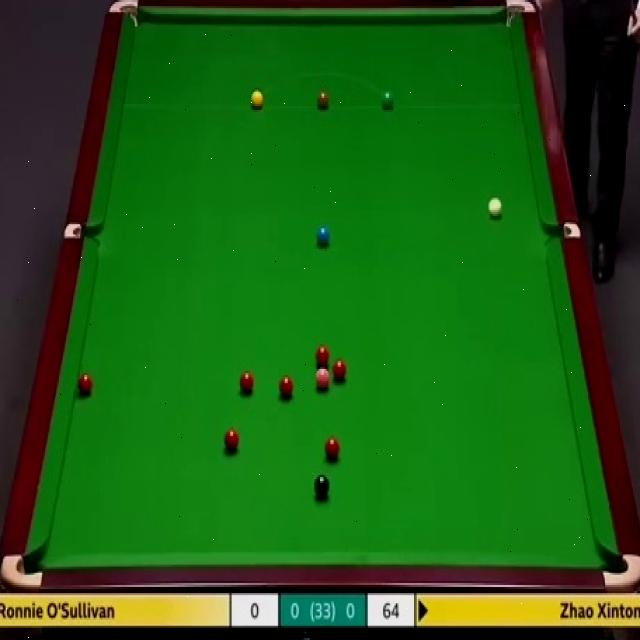black-ball: (313, 474, 330, 500)
blue-ball: (315, 226, 331, 247)
brown-ball: (316, 89, 329, 110)
green-ball: (381, 92, 394, 110)
pink-ball: (312, 366, 328, 392)
red-ball: (278, 376, 294, 402), (323, 438, 340, 462), (332, 360, 348, 384), (223, 431, 239, 453), (77, 374, 93, 395), (240, 372, 254, 395), (317, 343, 330, 366)
white-ball: (487, 196, 503, 221)
yellow-ball: (250, 89, 263, 110)
